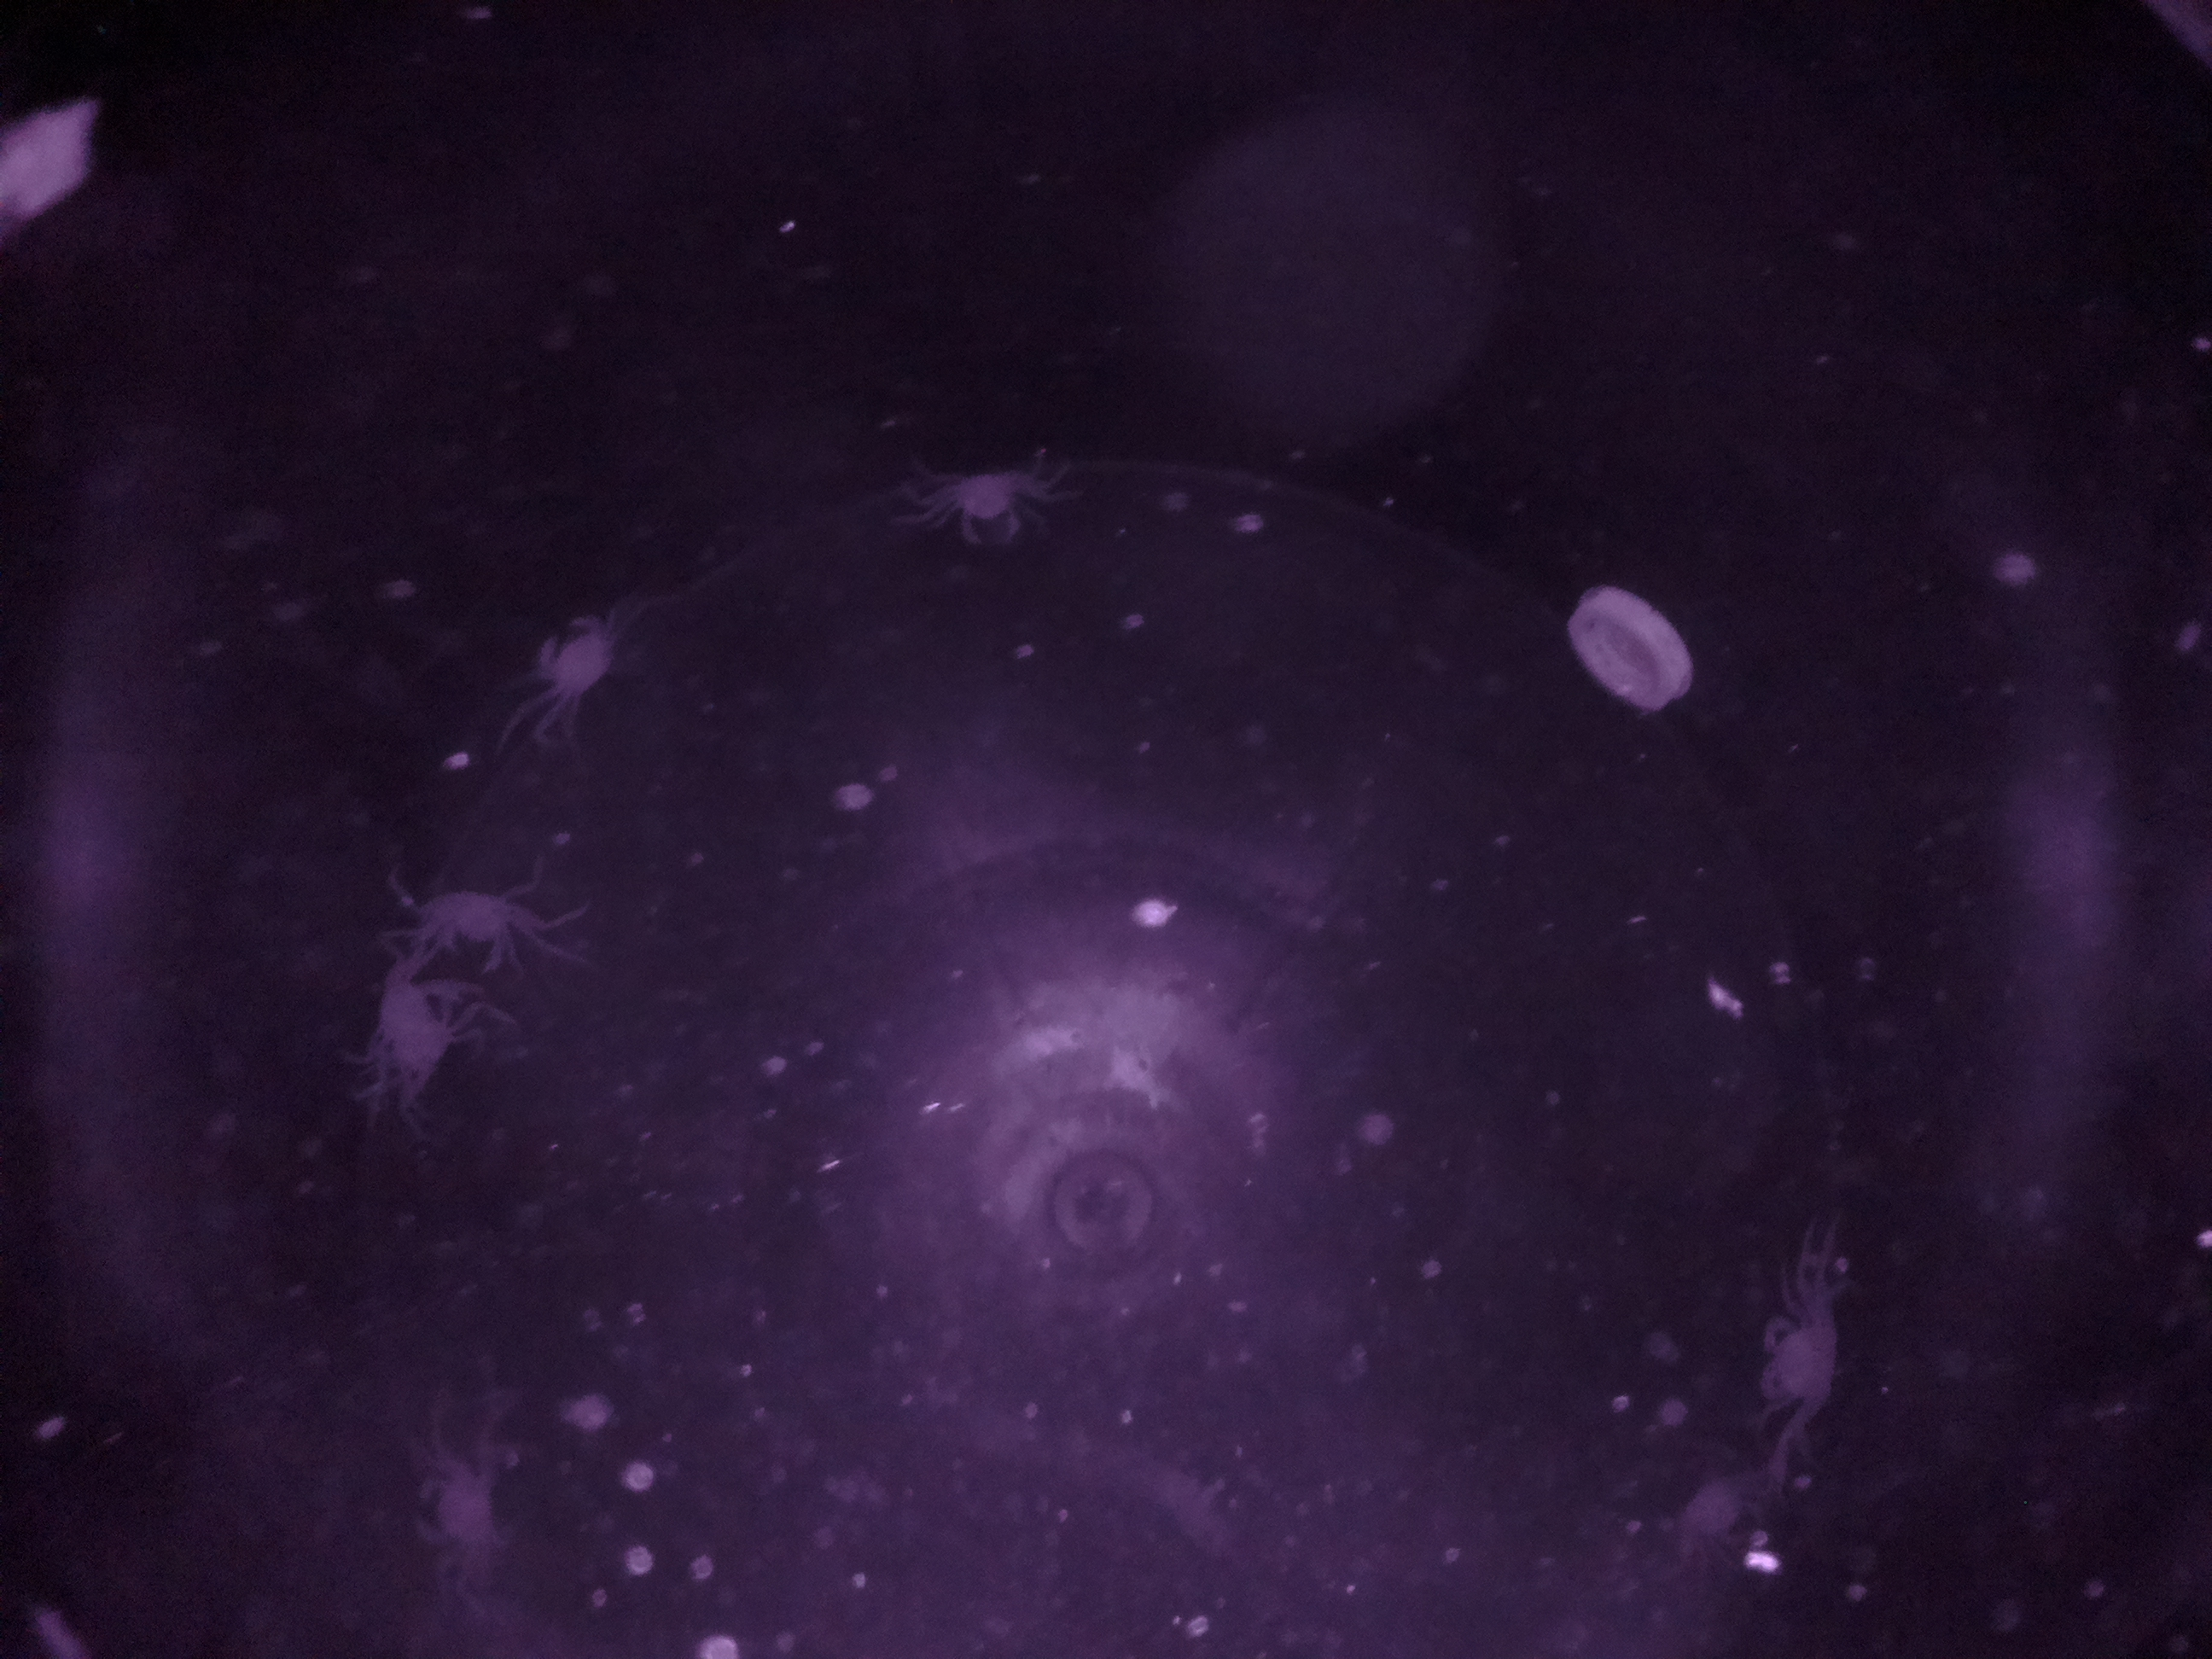Crab: (404, 842, 550, 997), (1728, 1291, 1879, 1438), (514, 584, 648, 727), (930, 443, 1054, 572)
